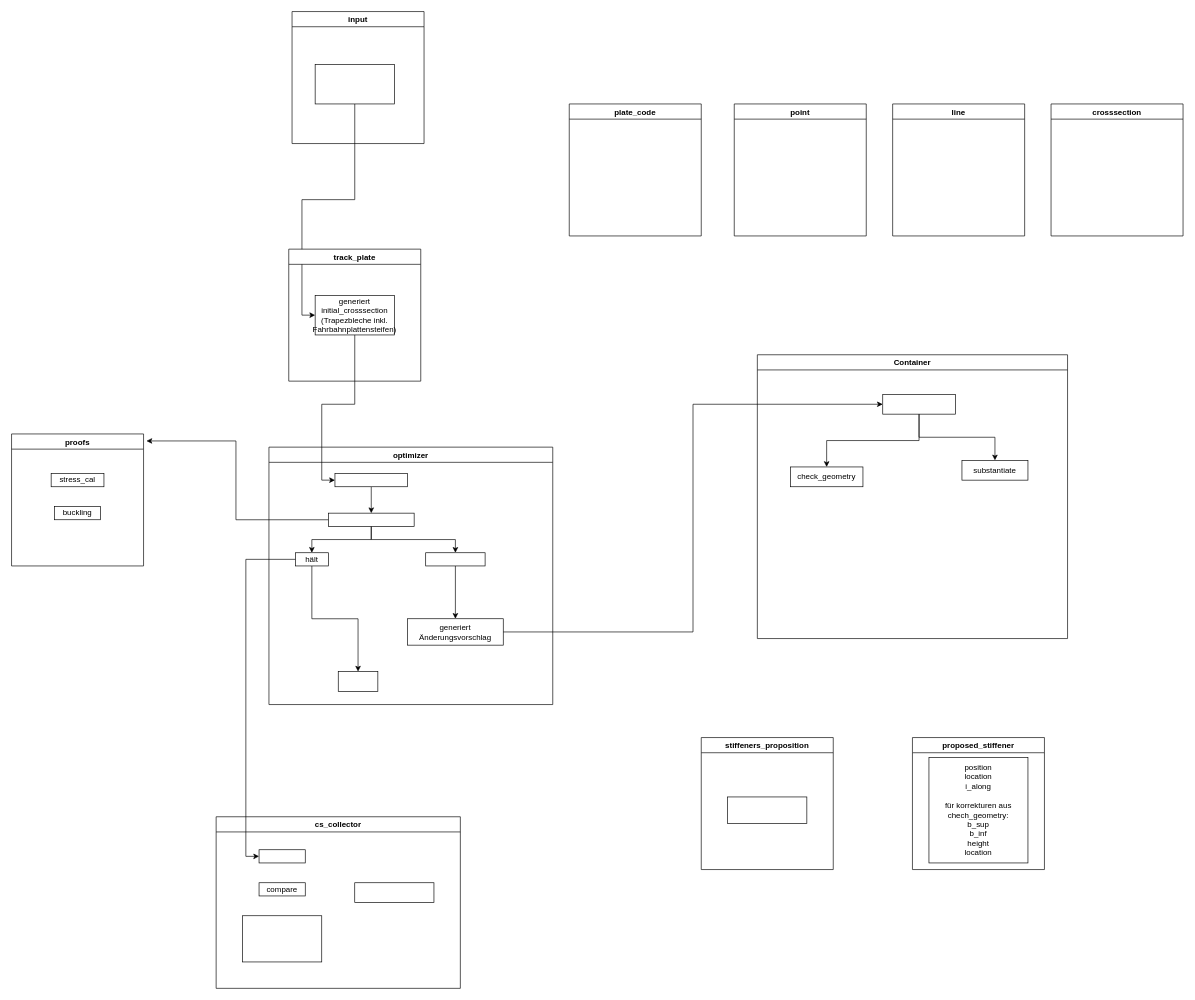
This 1195x1000 diagram has some shape labels left out. The shapes that lost their labels are listed below. From the top down, each one's centre as x and y in pixels, then its label:
point 354,84: user input: My, Qz, T b_sup, b_inf, height
point 918,404: add_stiffener_set
point 371,480: nimmt Querschnitt
point 371,519: lässt ihn durch proofs
point 455,559: hält nicht
point 358,681: durch?
point 767,809: liste von proposed_stiffener
point 281,856: update
point 394,892: Kostenschätzung
point 282,938: store: initial_cs best_cs last_cs current_cs
